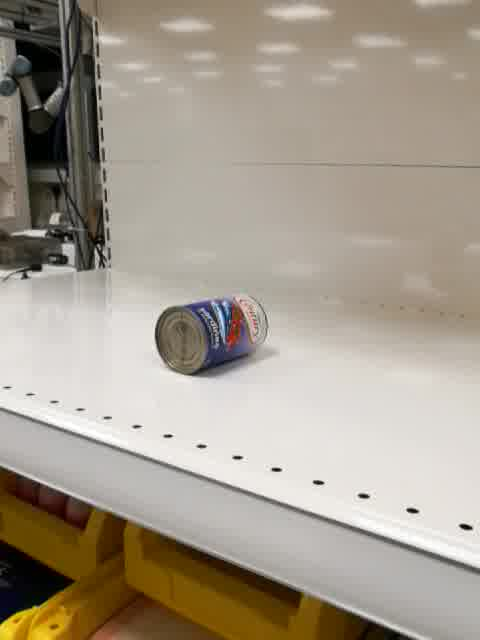sardine: (153, 291, 270, 376)
